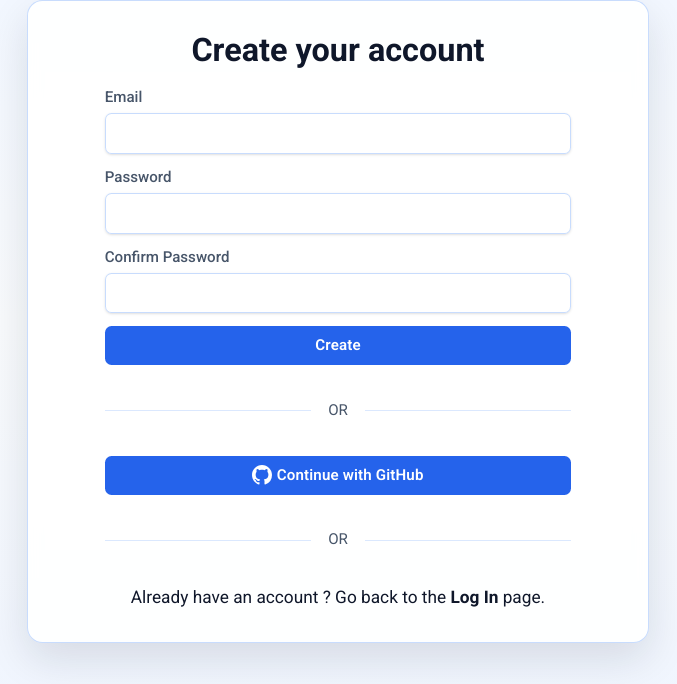
Scenario: SignUp Form Validation on input › shows validation messages for email input
Type "te" into the field labelled "Email" at (338, 134), box [105, 113, 571, 154]
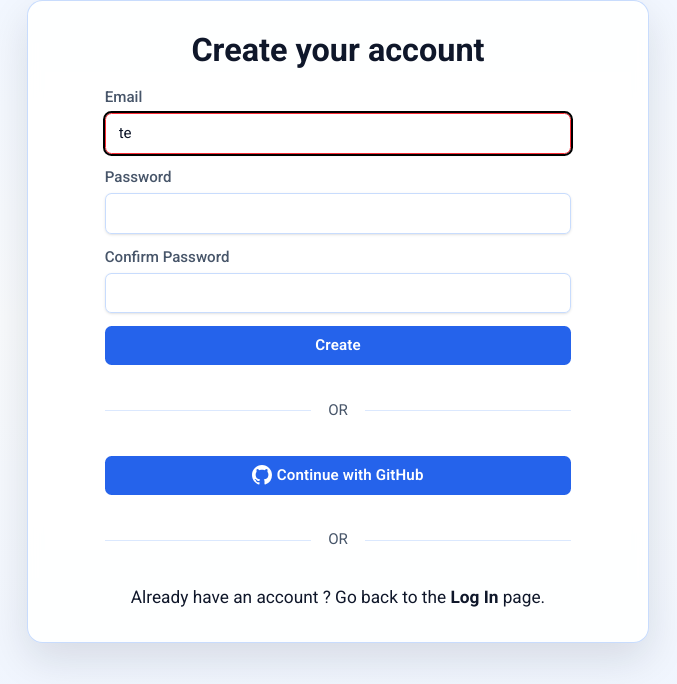
Type "st" into the field labelled "Email" at (338, 134), box [105, 113, 571, 154]
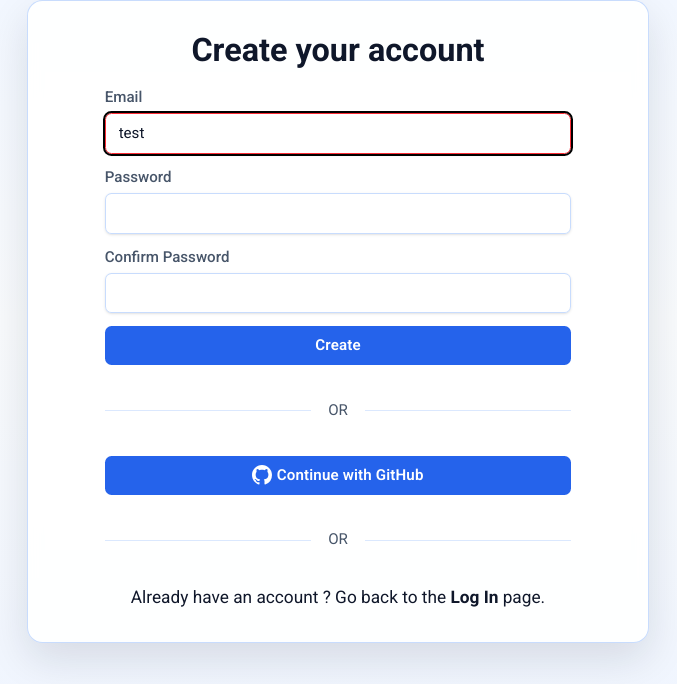
Result: the field labelled "Email" holds "test"
Type "@" into the field labelled "Email" at (338, 134), box [105, 113, 571, 154]
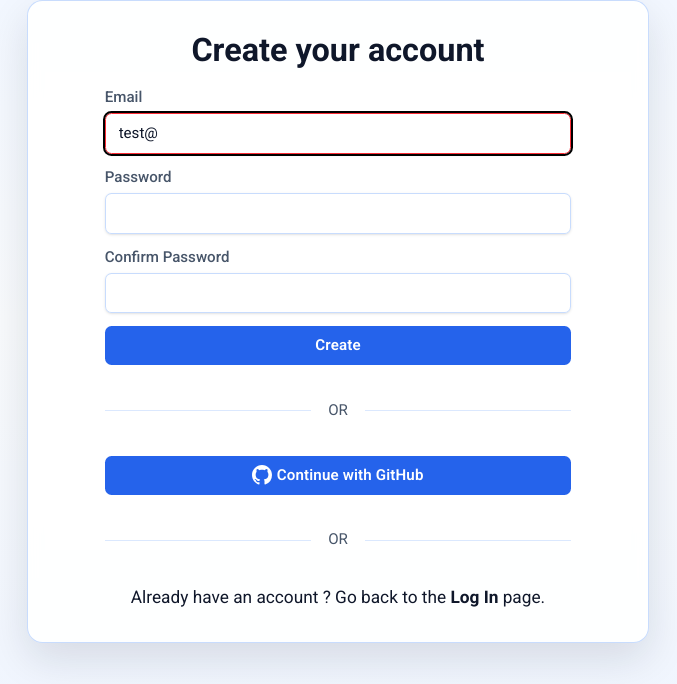
Result: the field labelled "Email" holds "test@"
Type "mail" into the field labelled "Email" at (338, 134), box [105, 113, 571, 154]
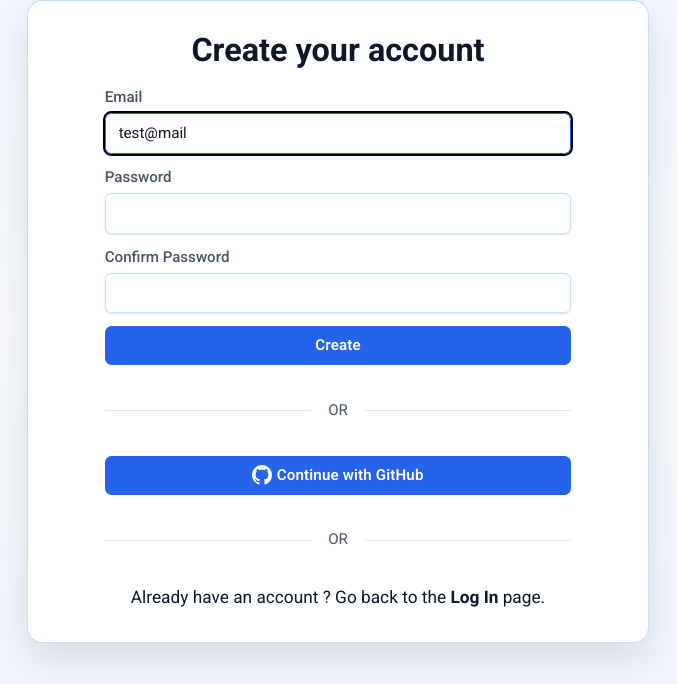
Result: the field labelled "Email" holds "test@mail" at [105, 113, 571, 154]
